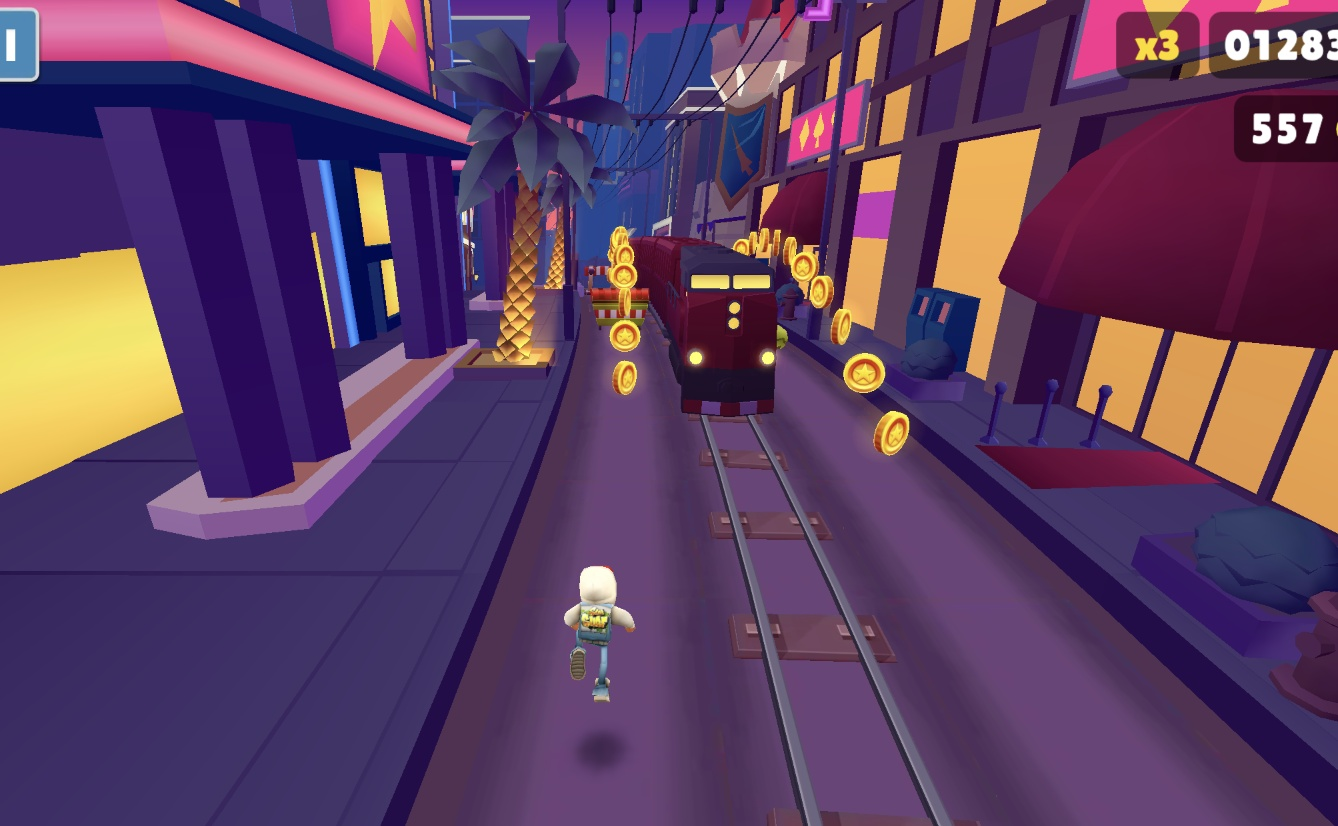train: (664, 235, 784, 412)
